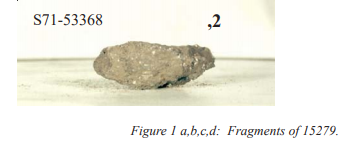Breccia: (87, 40, 229, 94)
